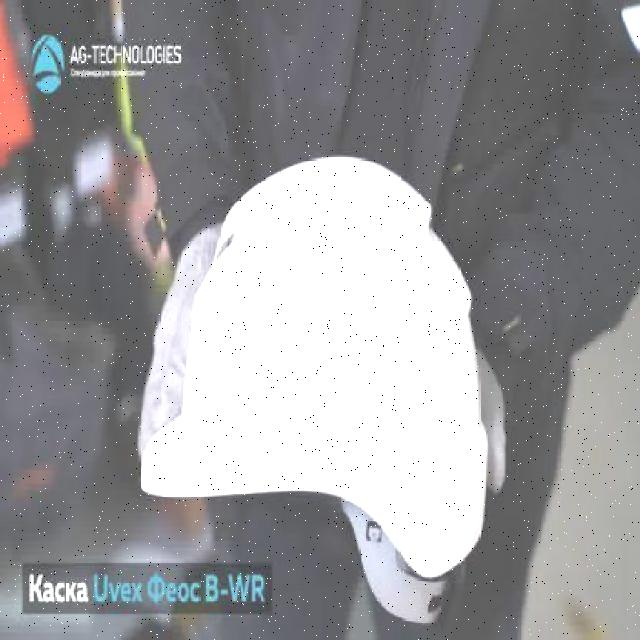Helmet: (138, 152, 490, 582)
